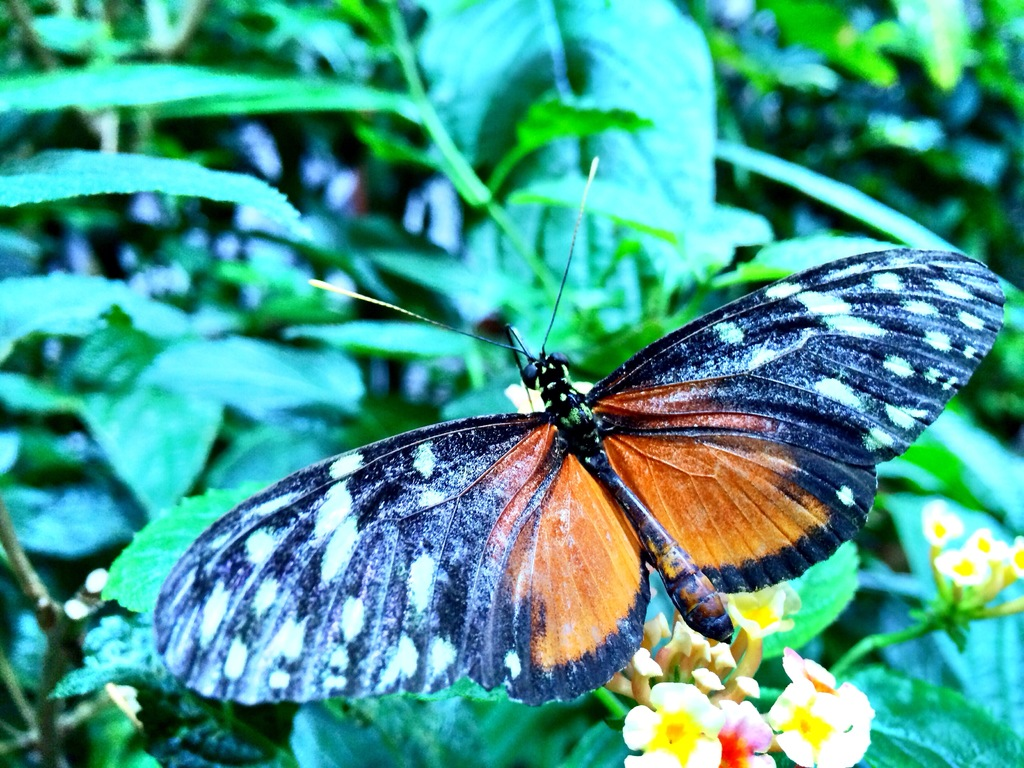Butterfly: (104, 174, 1012, 715)
